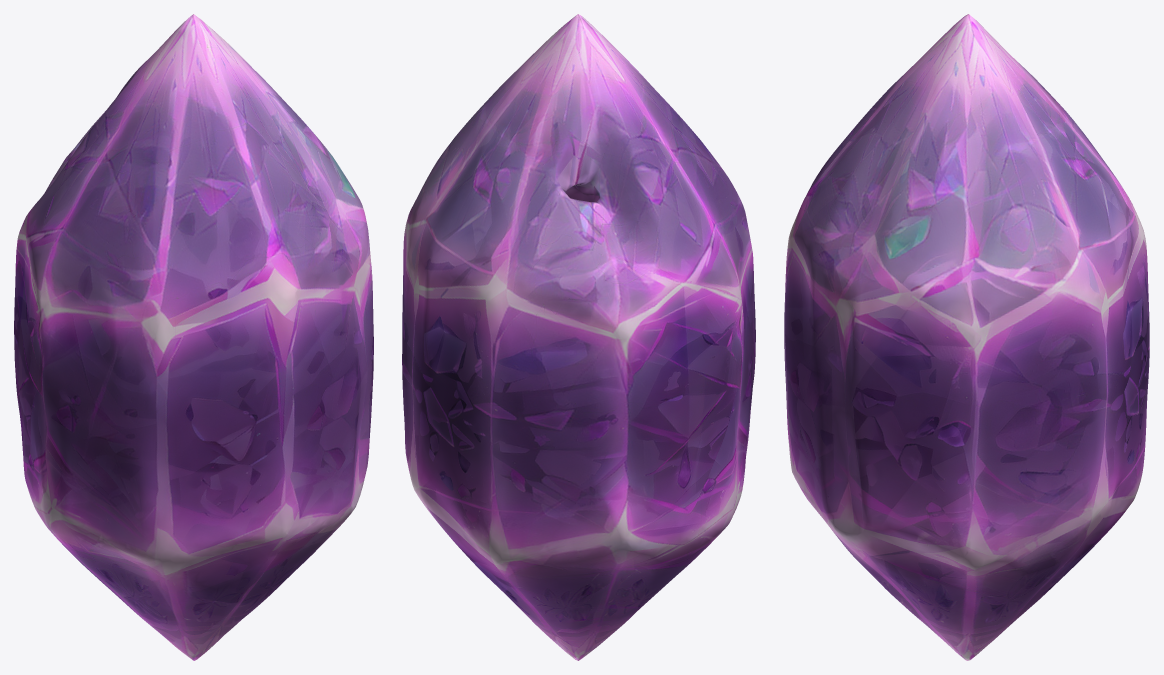
File: Crystal.fbx
3 renders of one model, left to right at view 1: azimuth 30°, elevation 25°; view 2: azimuth 150°, elevation 25°; view 3: azimuth 270°, elevation 25°, orthographic.
Visible parts, largest first — view 1: Mesh_0; view 2: Mesh_0; view 3: Mesh_0.
Boxes of the visible parts, x1,y1,x2,y2 form: Mesh_0: [14, 14, 373, 660]; Mesh_0: [402, 14, 755, 660]; Mesh_0: [784, 14, 1149, 660].
Bounding box in the file's own units: 61.33 × 120 × 61.47.
Materials: 1 (1 with a texture image).
